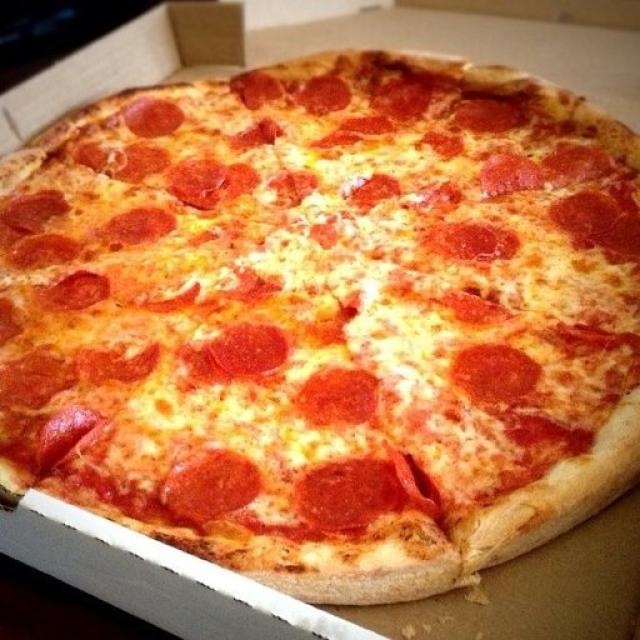Cheese: (275, 236, 385, 297), (364, 308, 428, 356)
Pepperoni: (290, 451, 437, 532), (158, 440, 269, 523), (441, 332, 547, 412), (0, 185, 82, 274), (185, 326, 291, 386), (413, 216, 524, 269), (297, 366, 385, 432), (164, 152, 252, 214), (37, 410, 117, 471), (68, 338, 166, 385), (448, 82, 532, 136), (292, 60, 362, 120), (542, 136, 620, 187), (472, 150, 547, 200), (94, 198, 175, 244), (369, 70, 436, 125), (94, 141, 174, 187), (121, 92, 190, 144), (220, 112, 292, 158), (268, 156, 323, 216), (45, 265, 114, 308), (347, 164, 407, 213)
Pizza: (0, 49, 640, 609)
